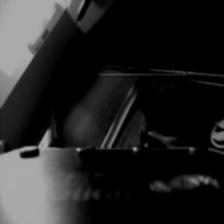Door Handle: (100, 74, 188, 147)
